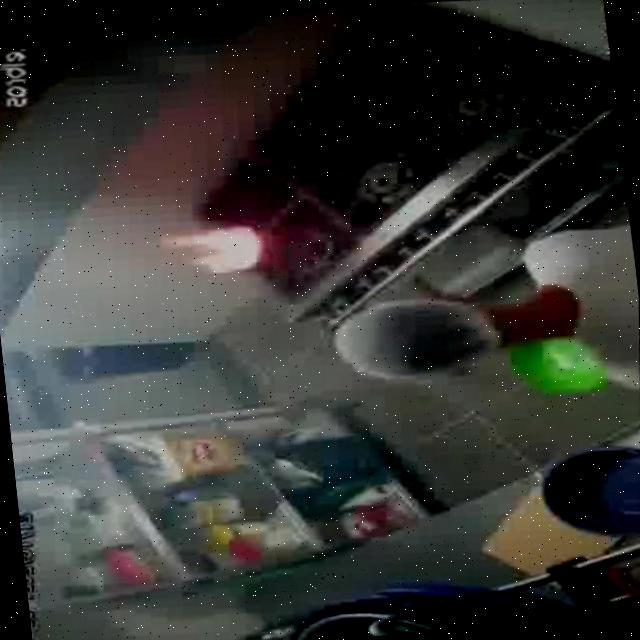fire: (137, 185, 319, 320)
